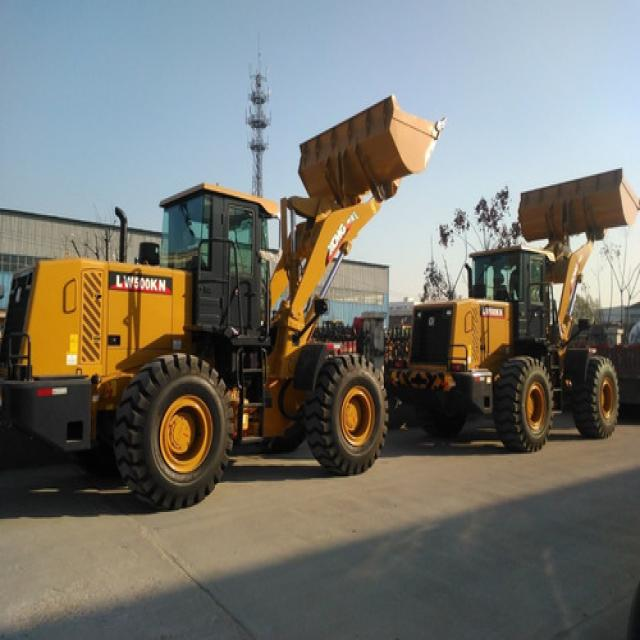buldozerpayloadergrader: (10, 104, 422, 492), (413, 172, 640, 438)
